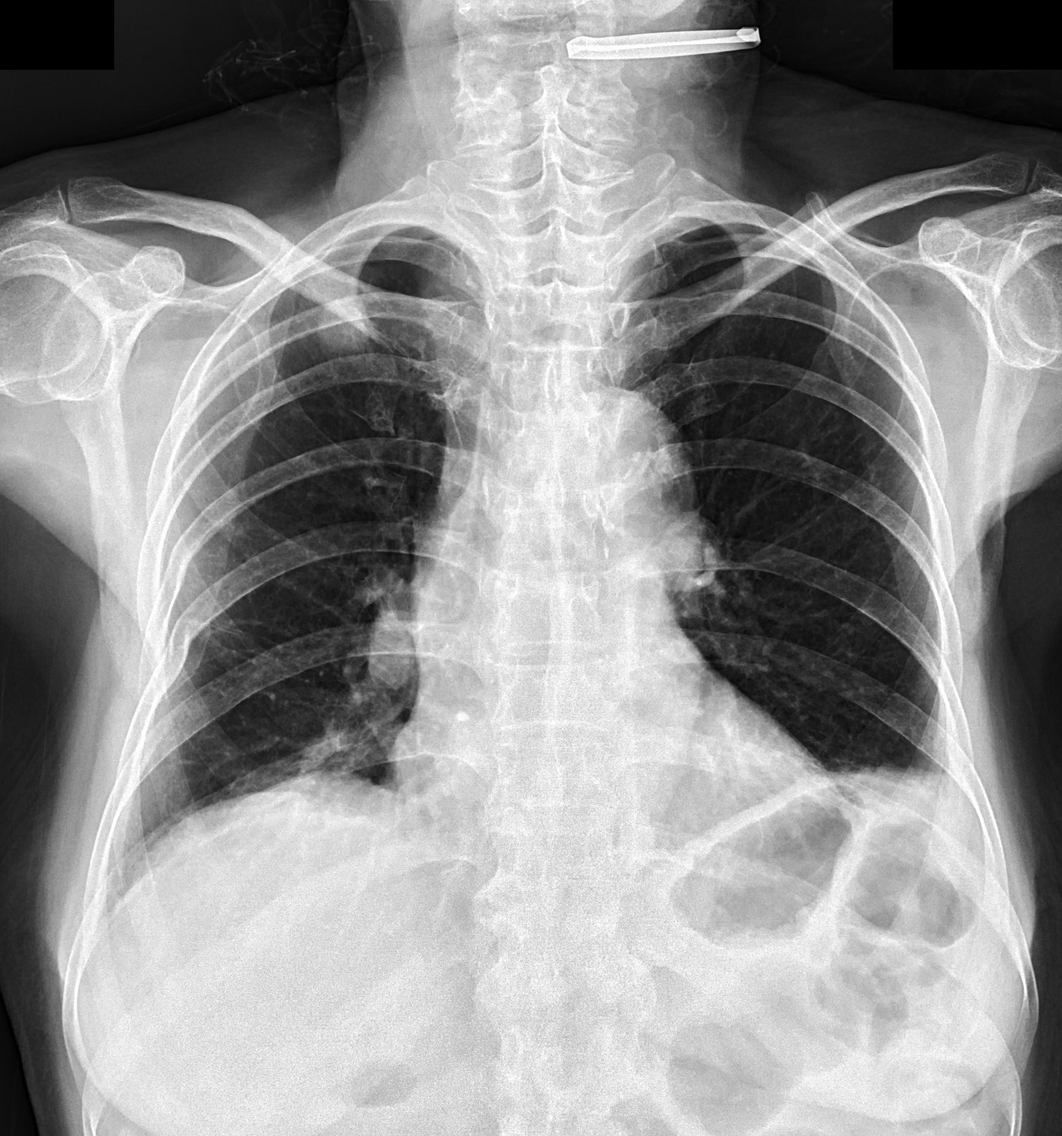Aortic enlargement: (547, 385, 700, 544)
Pleural thickening: (925, 743, 984, 859), (327, 219, 436, 246)
